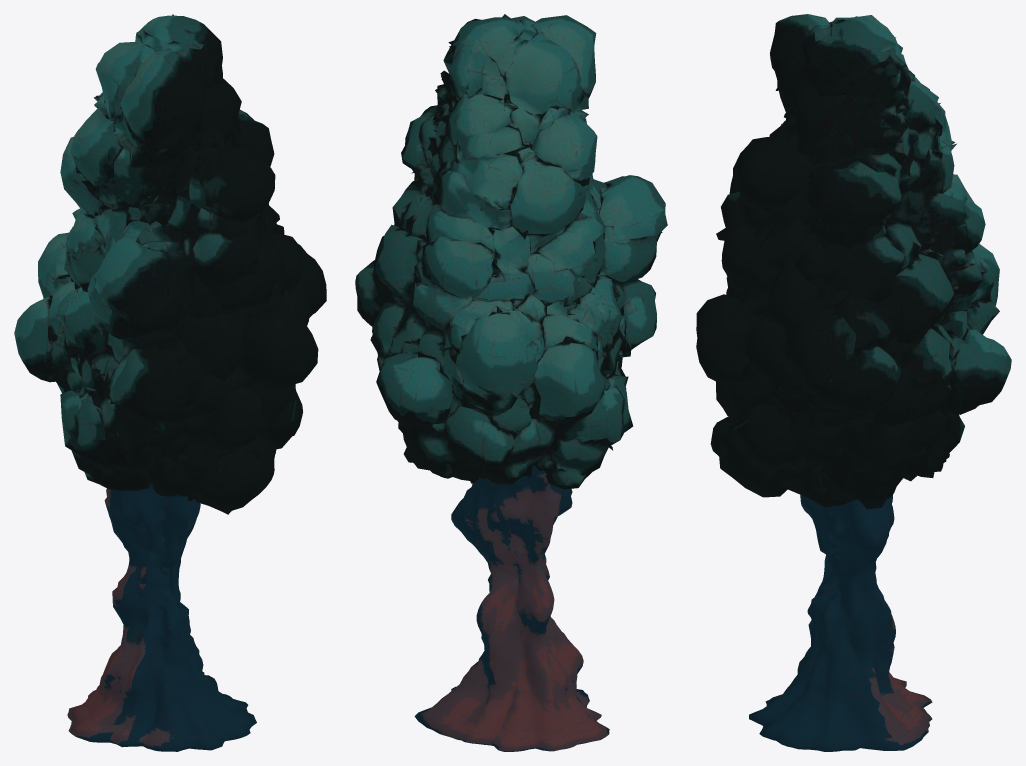
The model's file is treeandtrunkmediumquality.glb.
3 views of the same model, side by side, from view 1: azimuth 30°, elevation 25°; view 2: azimuth 150°, elevation 25°; view 3: azimuth 270°, elevation 25° (orthographic).
Visible parts, largest first — view 1: tree_canopy, tree_trunk; view 2: tree_canopy, tree_trunk; view 3: tree_canopy, tree_trunk.
Part boxes in pixels (<box>): tree_canopy: <box>14,14,326,514</box>; tree_trunk: <box>67,484,256,751</box>; tree_canopy: <box>355,14,667,489</box>; tree_trunk: <box>414,465,609,751</box>; tree_canopy: <box>696,14,1011,509</box>; tree_trunk: <box>749,495,932,751</box>.
Bounding box in the file's own units: 8.13 × 20.34 × 8.25.
Materials: 2 (2 with a texture image).
